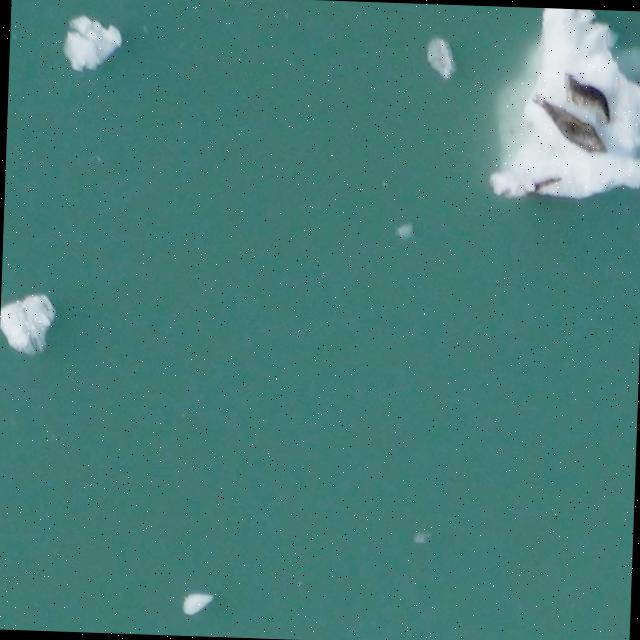seal: (525, 89, 614, 165), (556, 73, 620, 122)
